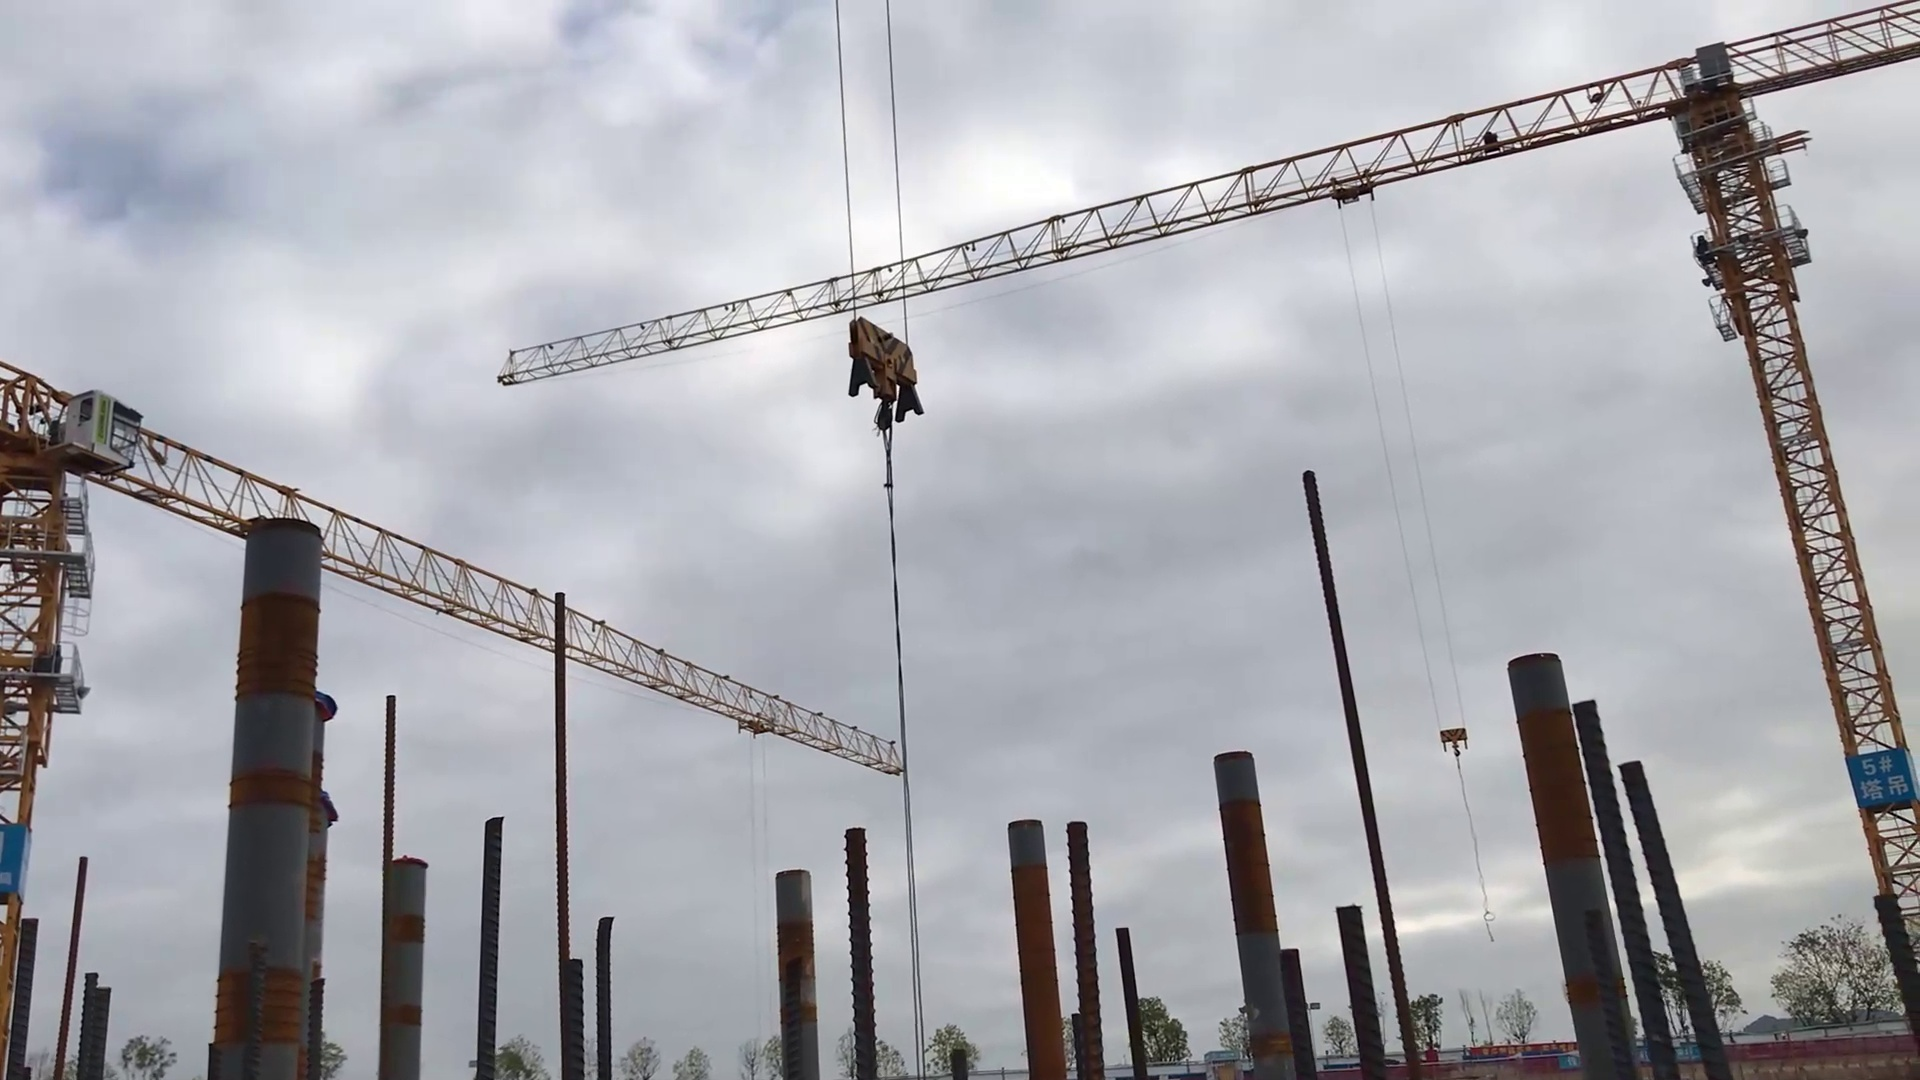hook: (840, 309, 926, 436)
